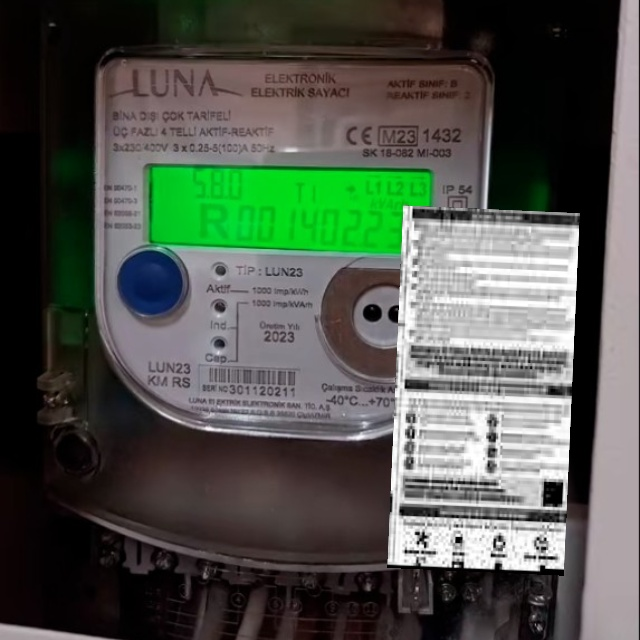electricity-bill: (386, 204, 579, 576)
